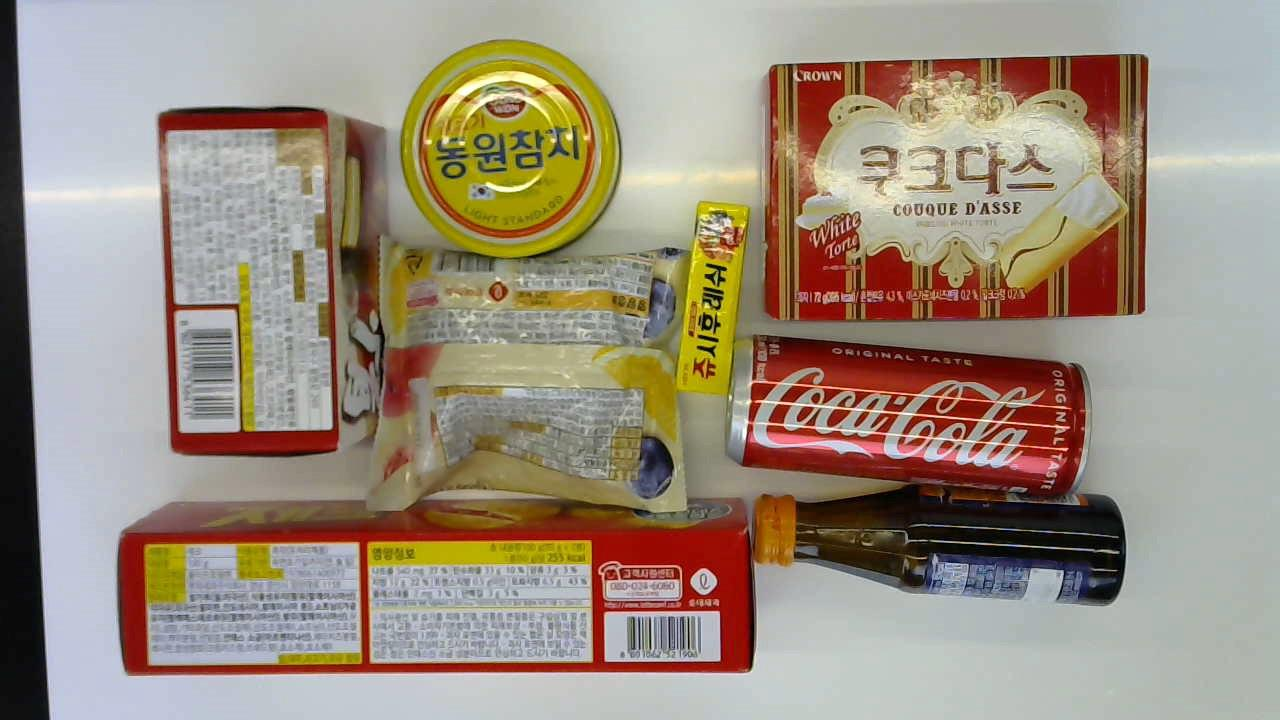coke: (727, 332, 1092, 497)
couque_white: (767, 51, 1144, 329)
gumi_gumi: (365, 246, 688, 513)
juicyfresh: (676, 199, 749, 396)
tuna: (403, 38, 620, 257)
vita500: (752, 477, 1127, 609)
zec: (116, 501, 760, 678), (156, 106, 385, 456)
